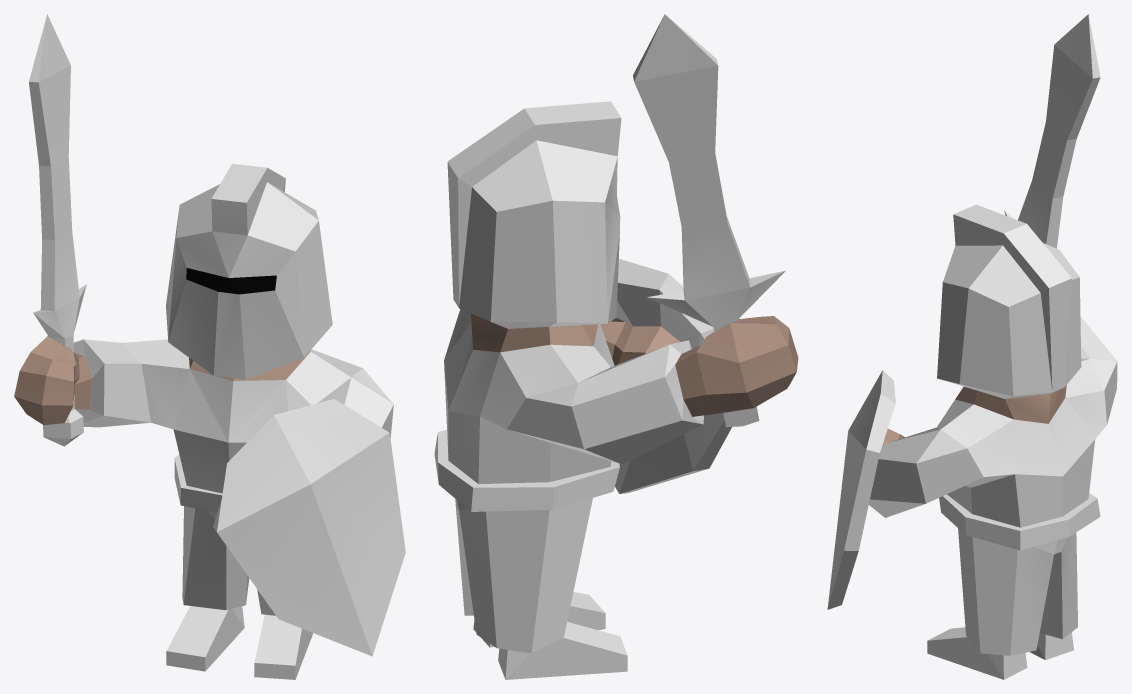
Rendered from Knight-Unisex.glb.
The picture shows the model from 3 angles, left to right: view 1: azimuth 30°, elevation 25°; view 2: azimuth 150°, elevation 25°; view 3: azimuth 270°, elevation 25°; orthographic projection. The views are drawn at different scales.
Parts seen in each view (by area): view 1: Knight; view 2: Knight; view 3: Knight.
Boxes of the visible parts, x1,y1,x2,y2 form: Knight: [14, 14, 405, 679]; Knight: [434, 14, 798, 679]; Knight: [827, 14, 1117, 679].
Bounding box in the file's own units: 1.38 × 2.57 × 1.18.
